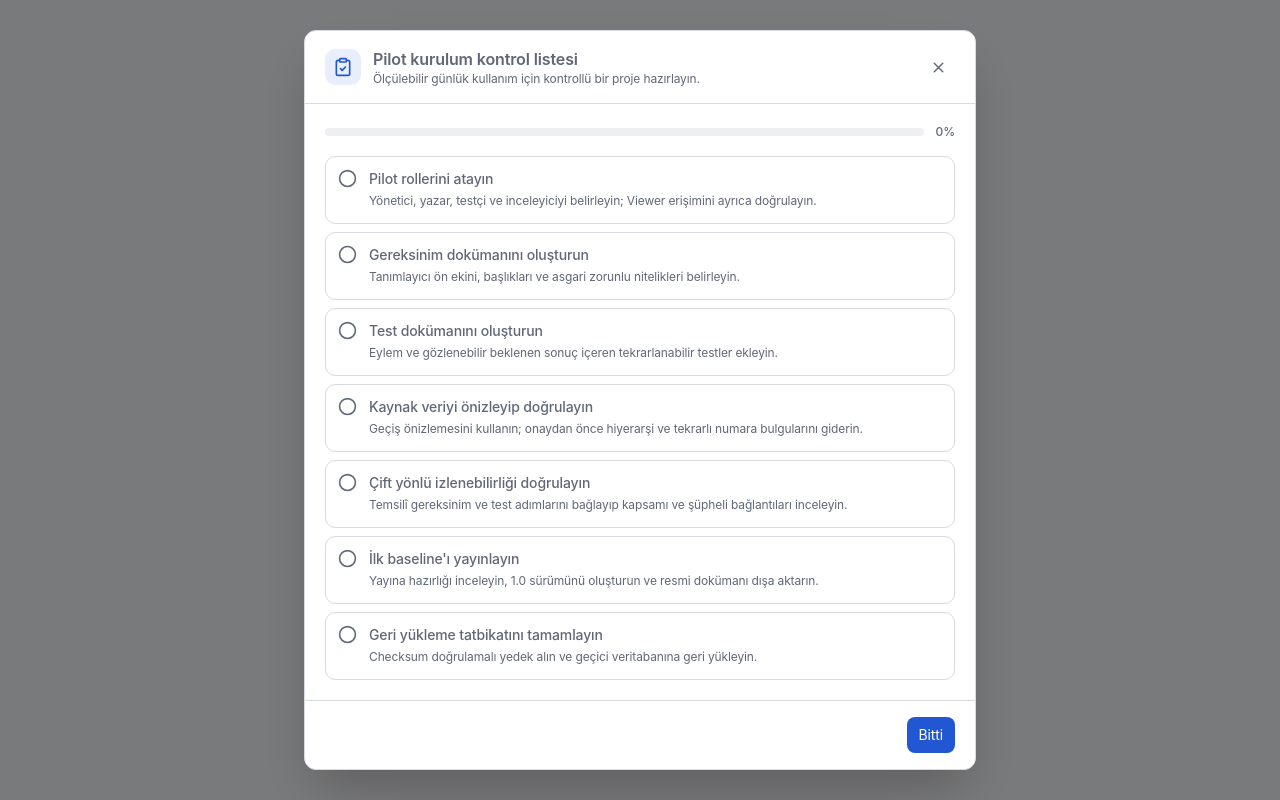
it: PilotChecklistDialog › persists pilot readiness progress on the current device
Click the button with test id "pilot-check-roles" at (640, 190), box [325,156,955,224]
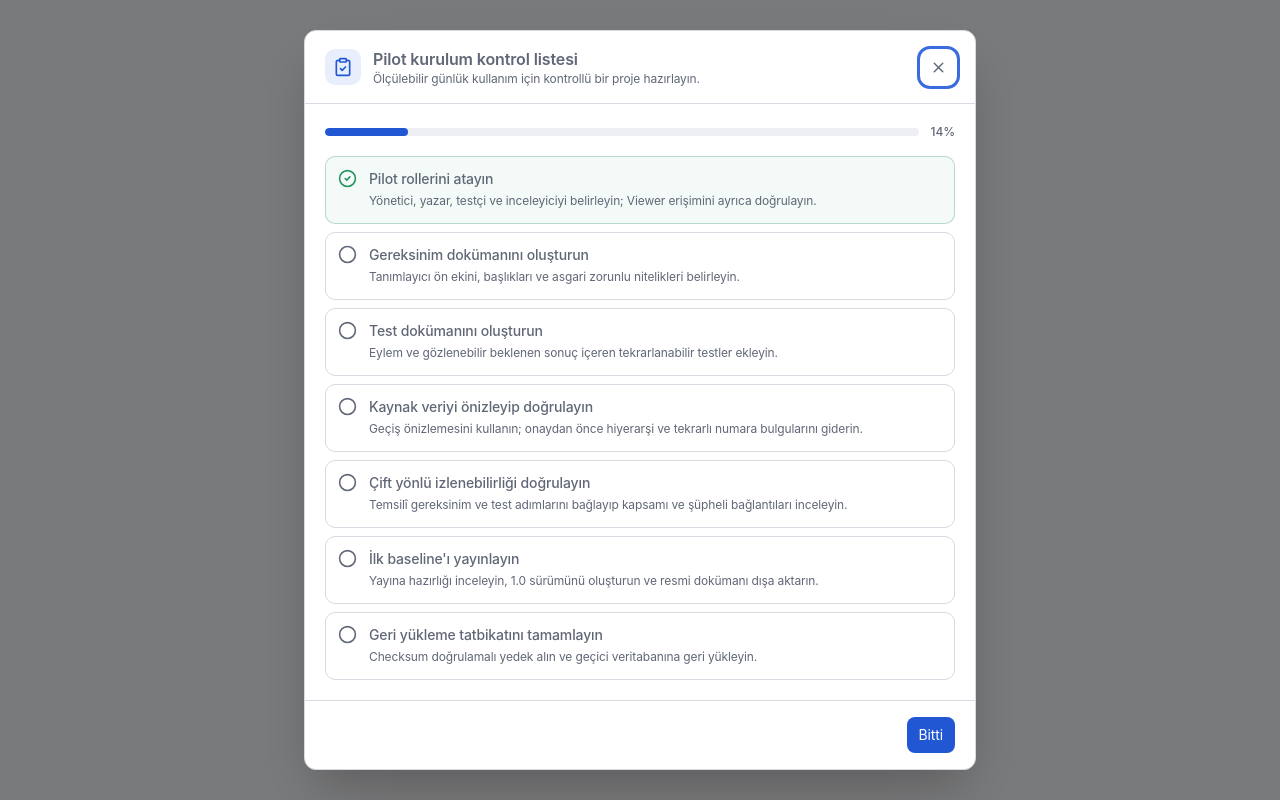
Check: the text "14%" is shown, box [931,124,955,140]
